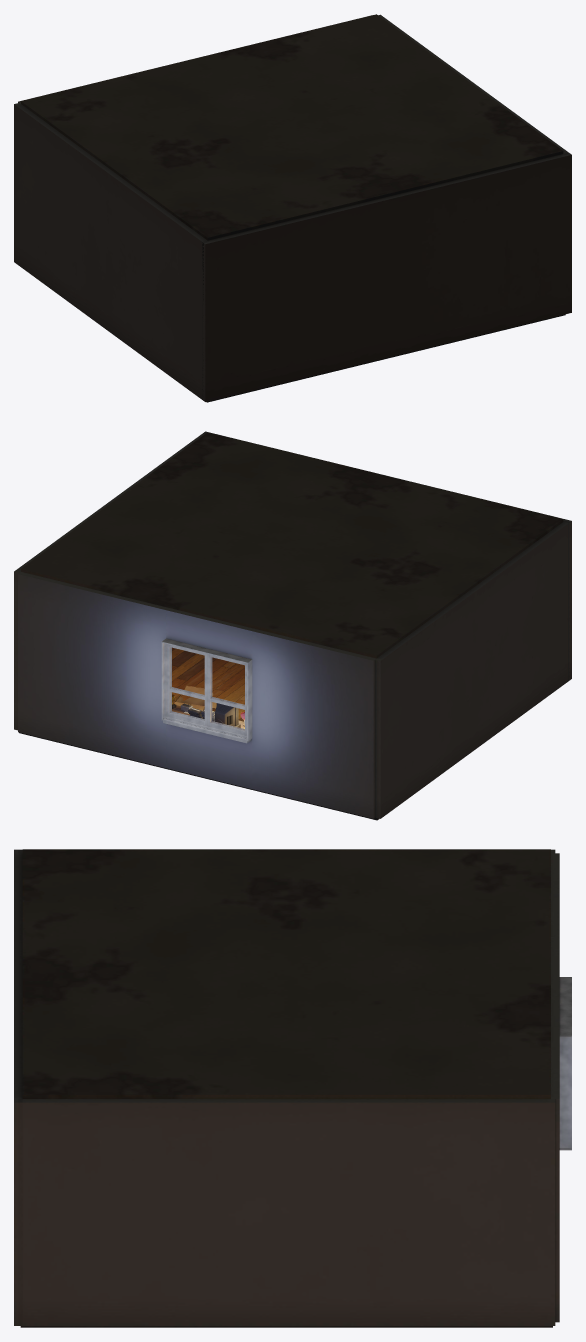
Rendered from sakina-room-gpu2.glb.
3 views of the same model, one above another, from view 1: azimuth 30°, elevation 25°; view 2: azimuth 150°, elevation 25°; view 3: azimuth 270°, elevation 25° (orthographic). The views are drawn at different scales.
Visible parts, largest first — view 1: Room_Shell; view 2: Room_Shell, Room_Window, Room_Floor; view 3: Room_Shell, Room_Window.
Part boxes in pixels (left/top/right/bottom): Room_Shell: left=14, top=14, right=571, bottom=402; Room_Shell: left=14, top=431, right=571, bottom=820; Room_Window: left=161, top=638, right=252, bottom=743; Room_Floor: left=172, top=647, right=244, bottom=721; Room_Shell: left=14, top=849, right=559, bottom=1327; Room_Window: left=559, top=977, right=571, bottom=1150.
Size of the model in its own units: 6.8 by 2.91 by 6.34.
12 materials, 12 textured.
